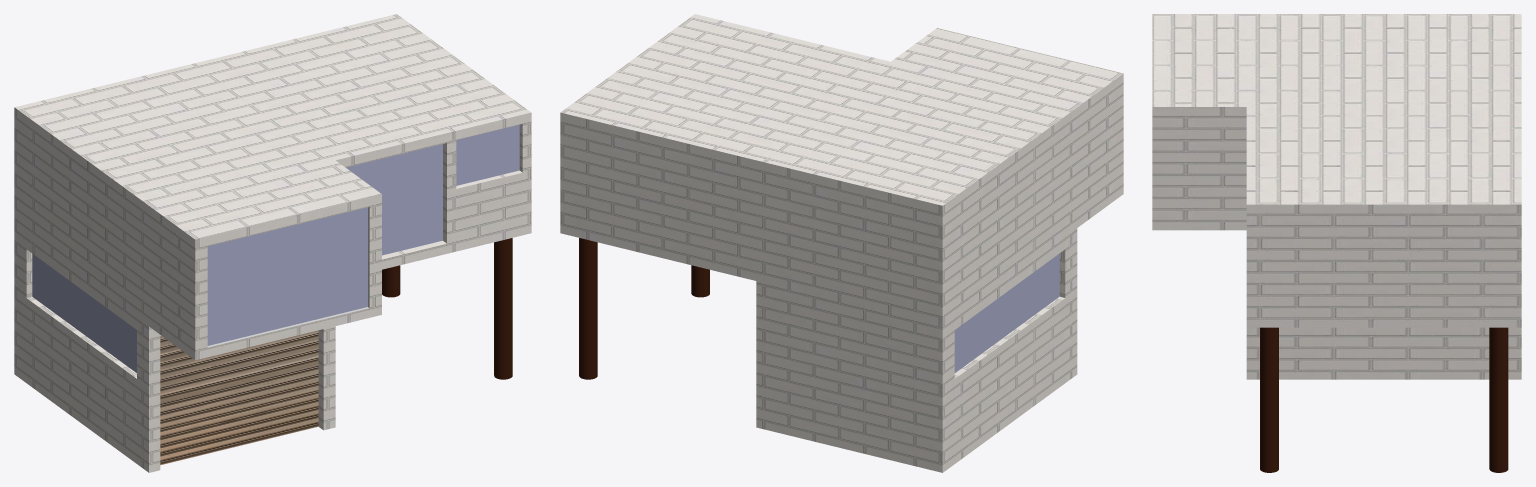
The model's file is house3.fbx.
3 views of the same model, side by side, from view 1: azimuth 30°, elevation 25°; view 2: azimuth 150°, elevation 25°; view 3: azimuth 270°, elevation 25° (orthographic). The views are drawn at different scales.
Parts seen in each view (by area): view 1: Cube, Cylinder.001, Cylinder; view 2: Cube, Cylinder; view 3: Cube, Cylinder, Cylinder.001.
Part boxes in pixels (x1,y1,x2,y2): Cube: [14, 14, 531, 472]; Cylinder.001: [494, 238, 512, 379]; Cylinder: [382, 265, 400, 297]; Cube: [560, 14, 1123, 472]; Cylinder: [579, 238, 597, 379]; Cube: [1152, 14, 1521, 379]; Cylinder: [1489, 327, 1508, 472]; Cylinder.001: [1260, 327, 1278, 472].
Size of the model in its own units: 1640 by 1095 by 1344.
